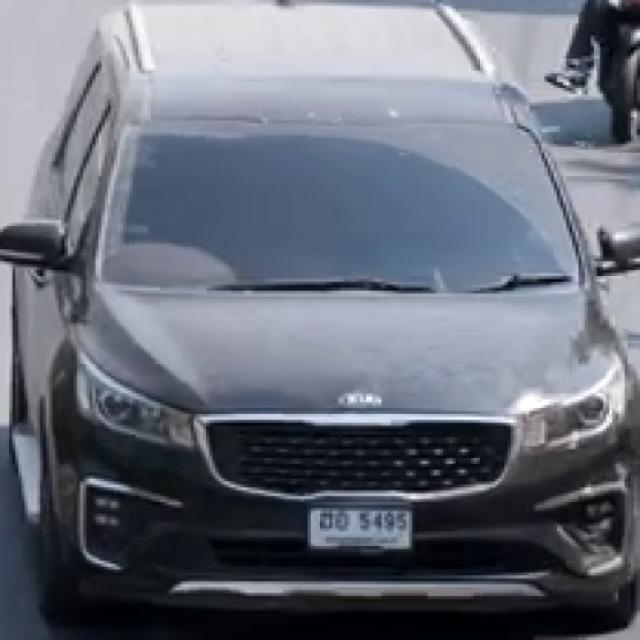plate: (309, 508, 413, 551)
